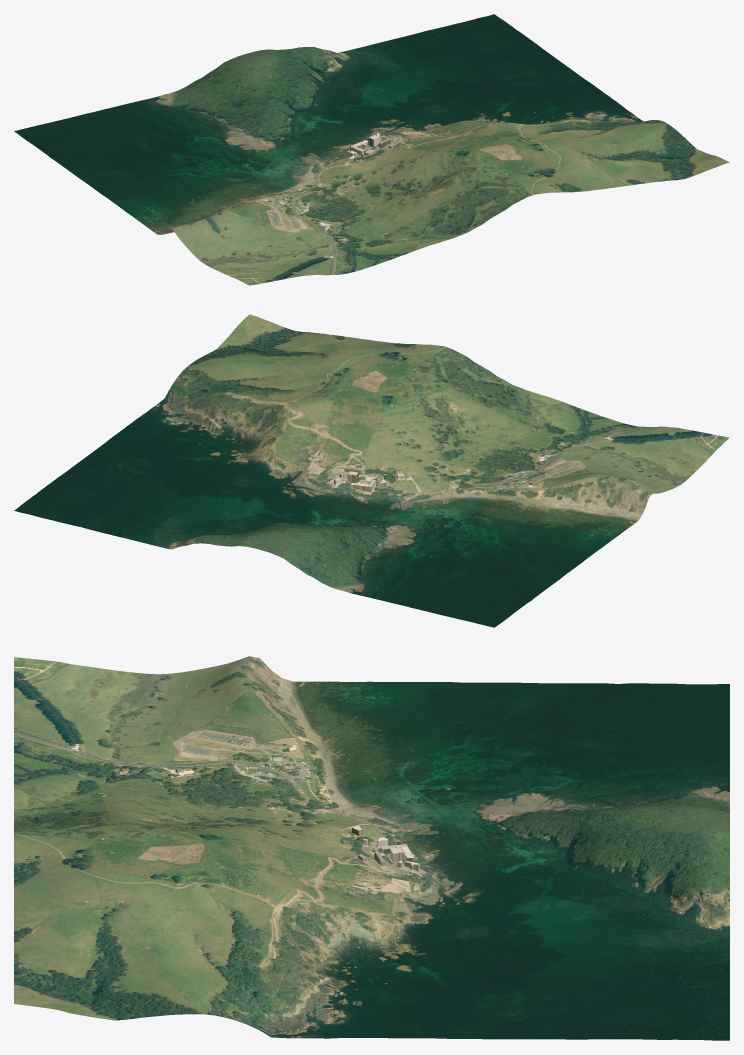
Rendered from leigh.fbx.
The picture shows the model from 3 angles, top to bottom: view 1: azimuth 30°, elevation 25°; view 2: azimuth 150°, elevation 25°; view 3: azimuth 270°, elevation 25°; orthographic projection. The views are drawn at different scales.
Visible parts, largest first — view 1: leigh; view 2: leigh; view 3: leigh.
Boxes of the visible parts, x1,y1,x2,y2 form: leigh: (14, 14, 729, 285); leigh: (14, 314, 729, 627); leigh: (14, 656, 729, 1040).
Bounding box in the file's own units: 127200 × 10260 × 108000.
Materials: 1 (1 with a texture image).
